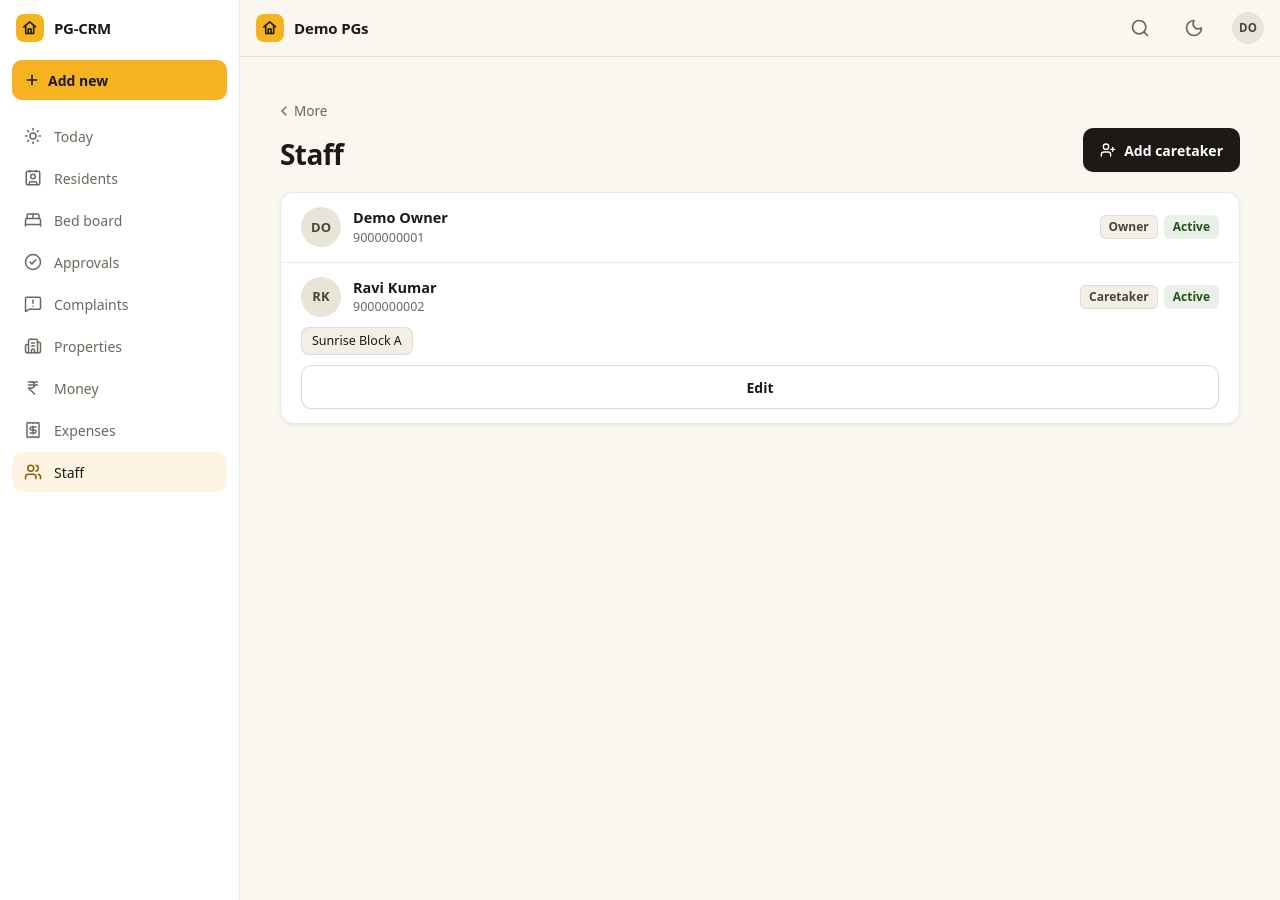
Scenario: Staff screen › [FE-12/AC3] deactivate asks for confirmation before sending the request
The width and height of the screenshot is (1280, 900).
Click the button with aria-label "Edit Ravi Kumar" at (760, 387), box [301,365,1219,409]
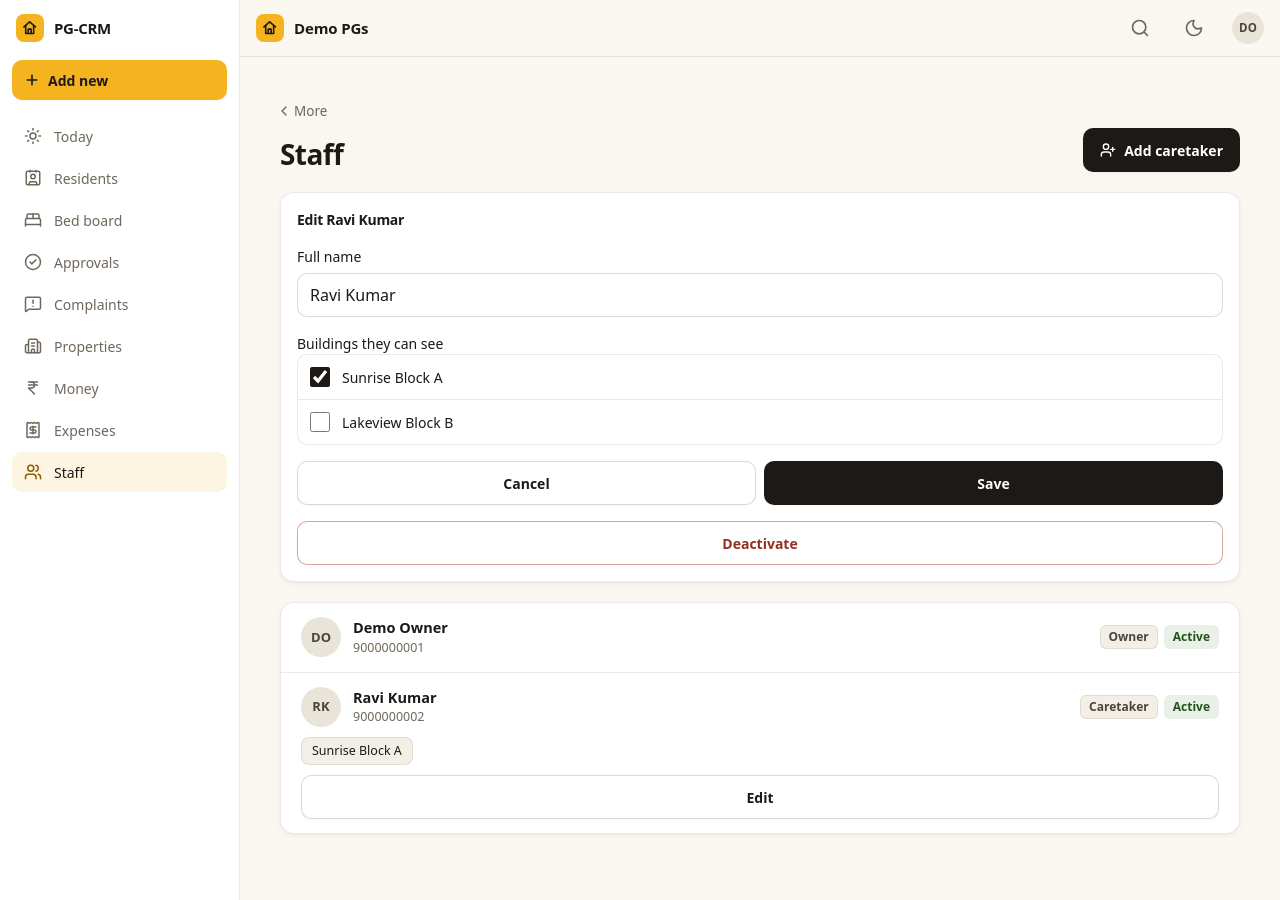
Click the button "Deactivate" at (760, 543), box [297,521,1223,565]
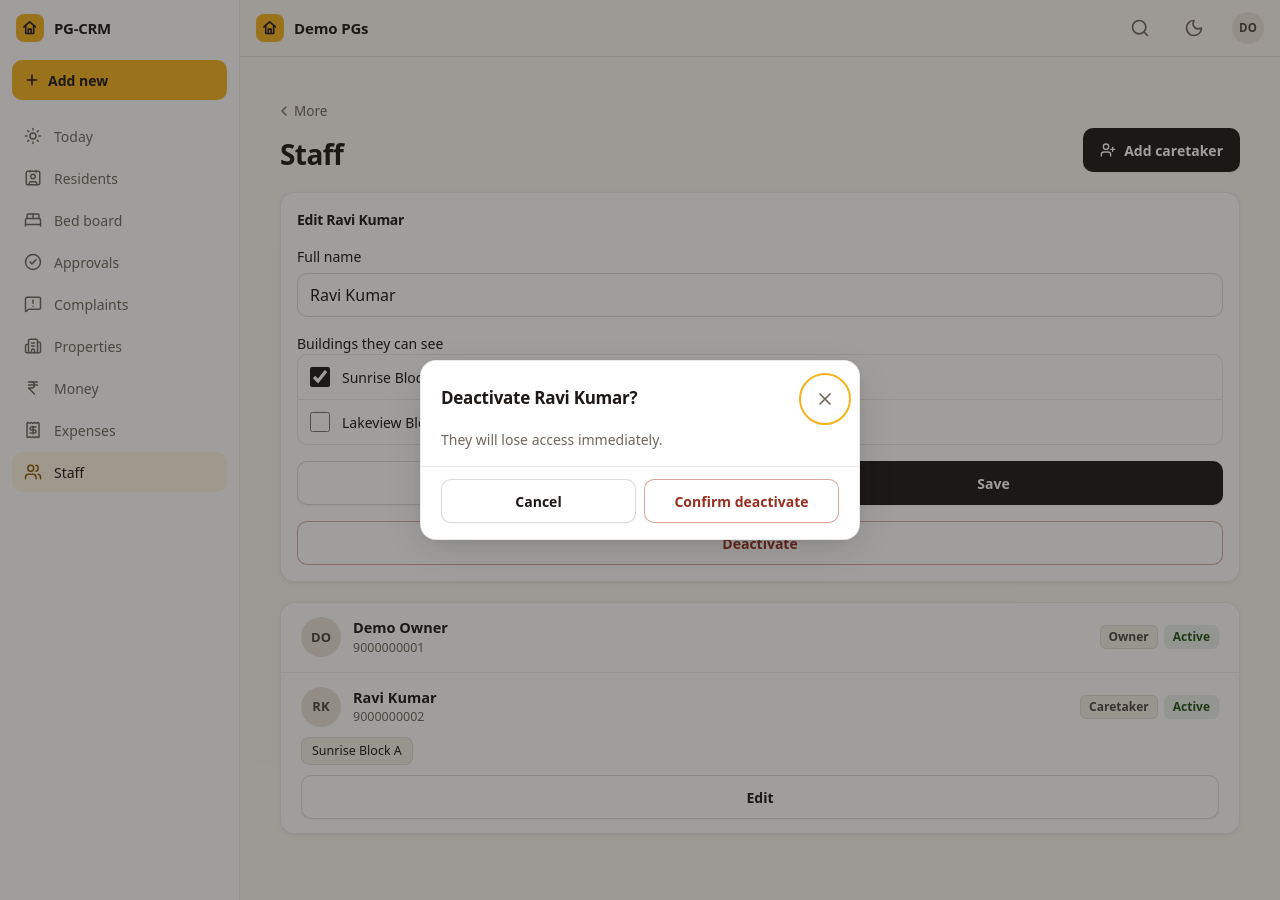
Expected: the text "They will lose access immediately." is shown, [441,430,662,449]
Click the button "Cancel" at (538, 501), box [441,479,636,523]
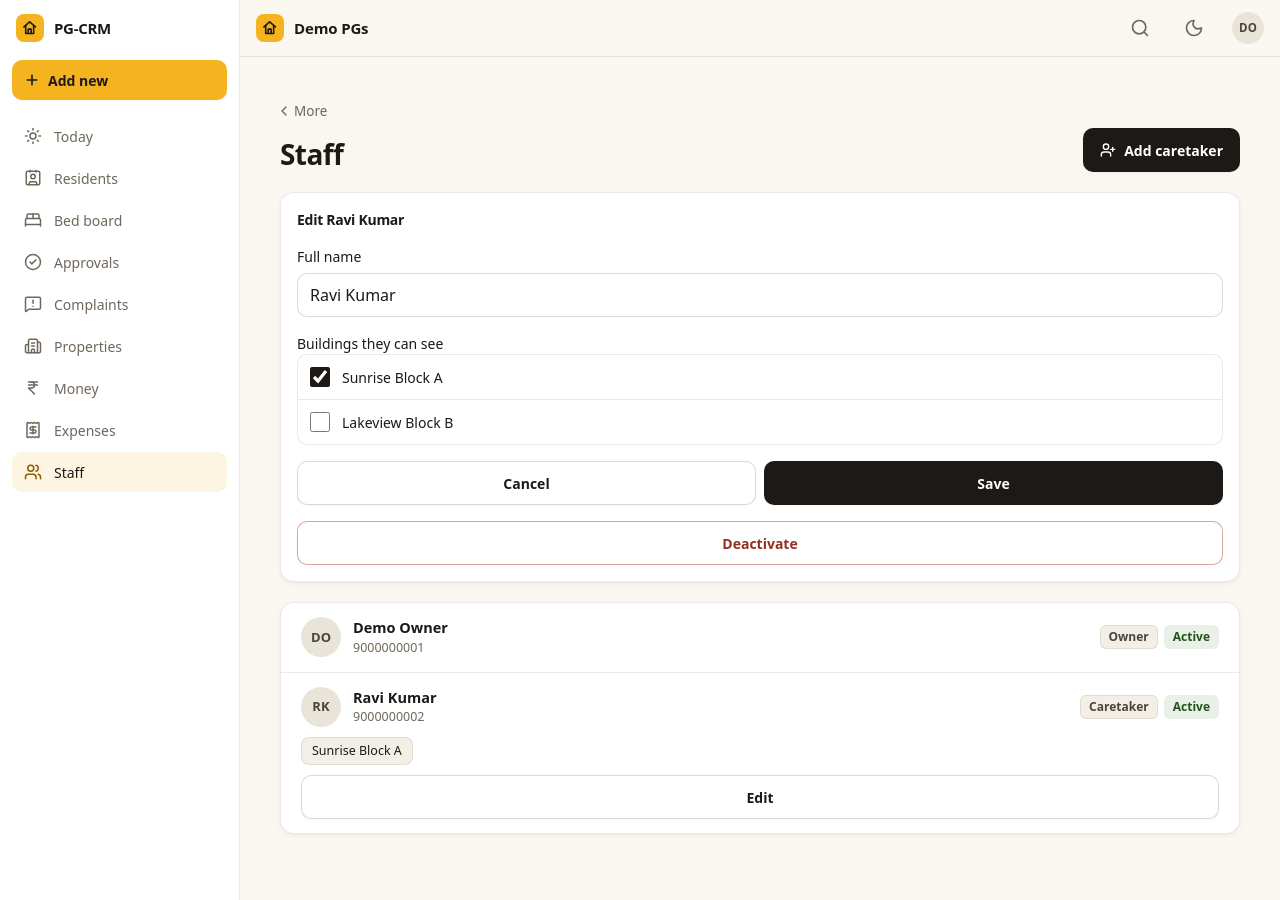
Click the button "Deactivate" at (760, 543), box [297,521,1223,565]
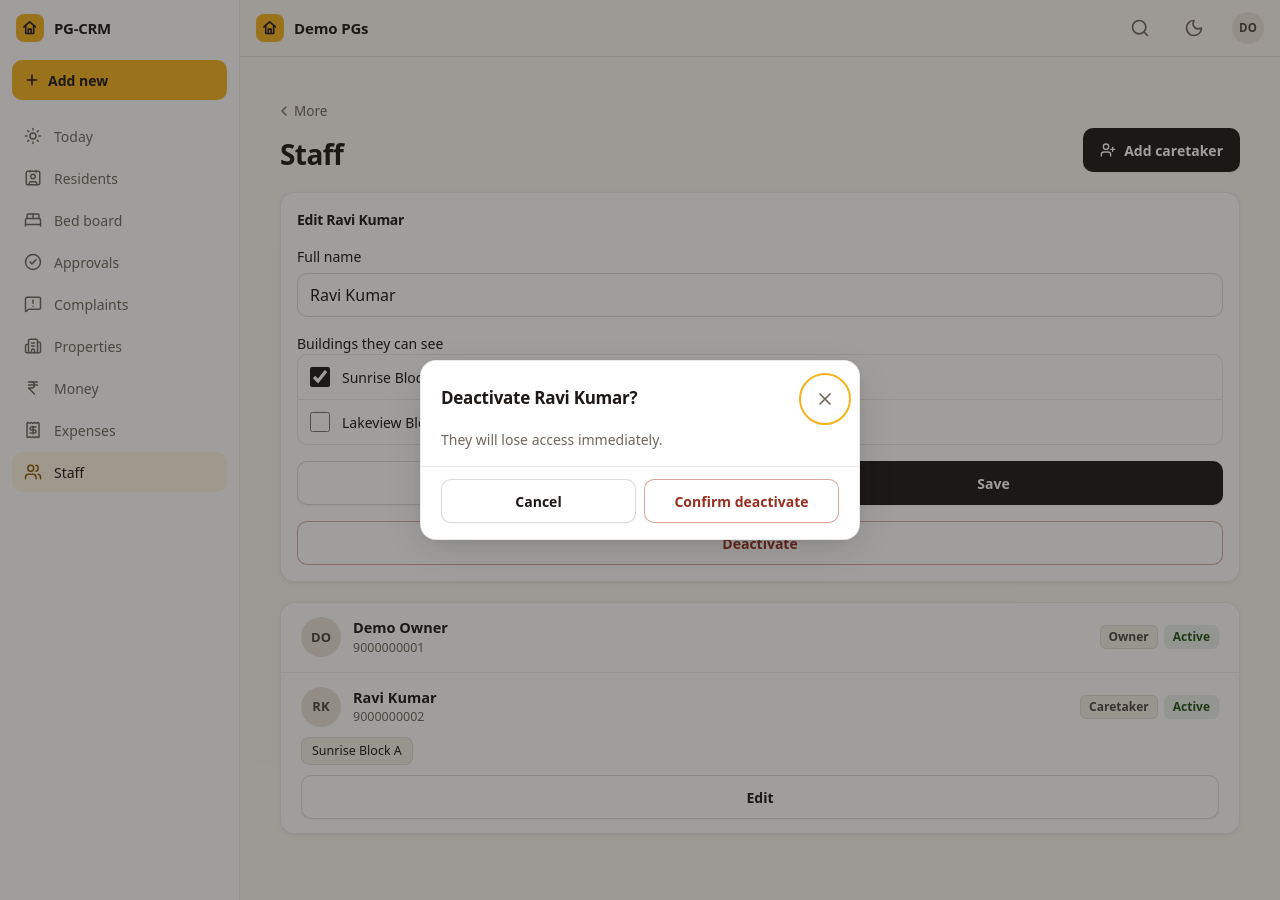
Click the button "Confirm deactivate" at (742, 501), box [644,479,839,523]
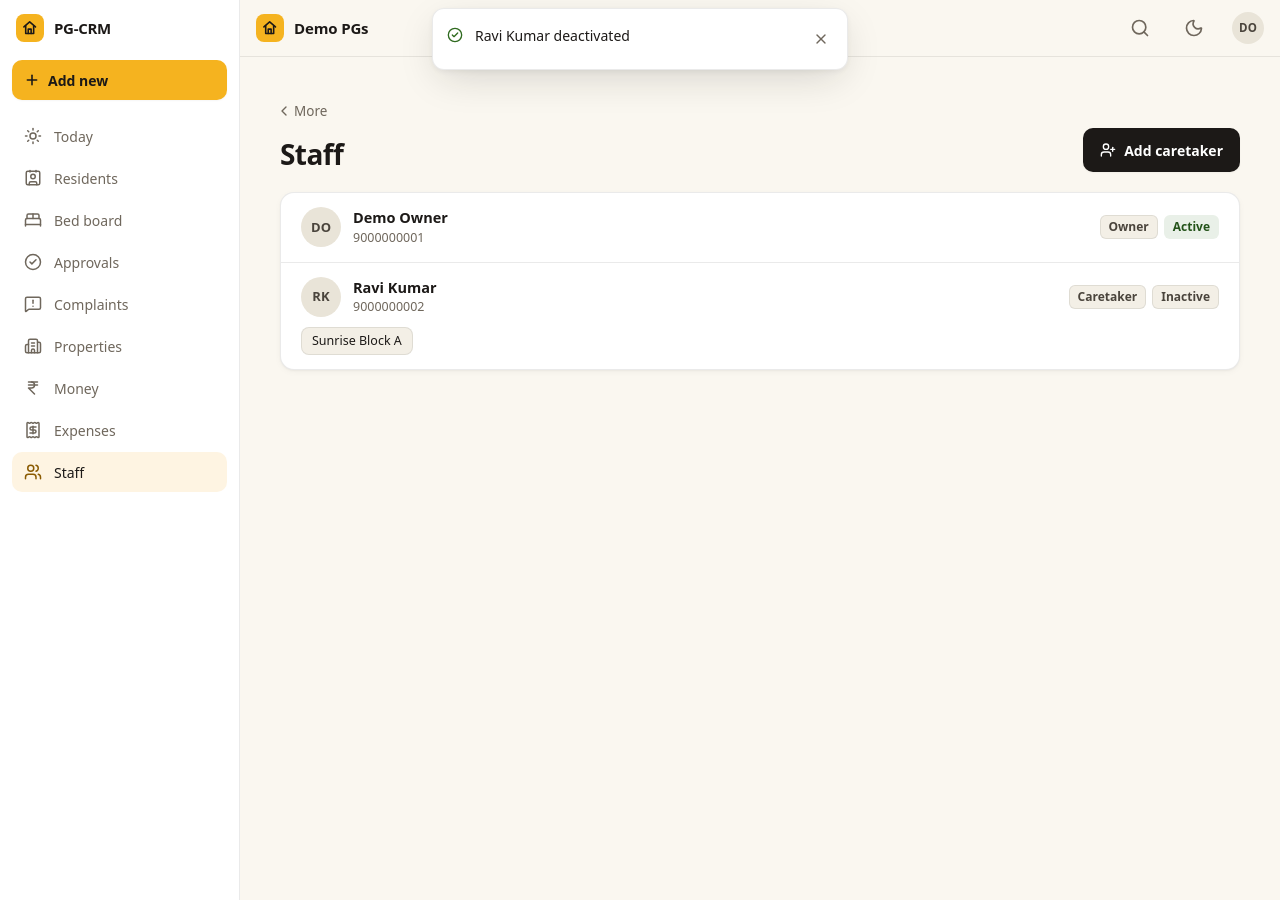
Expected: the text "Inactive" is shown, [1152,285,1219,309]
